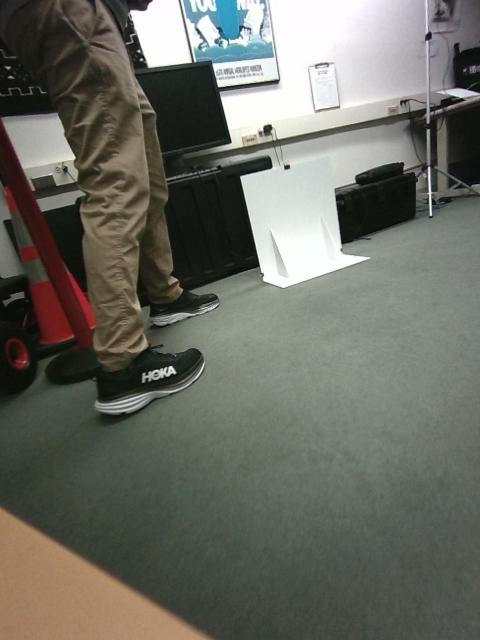block: (310, 349, 398, 423)
